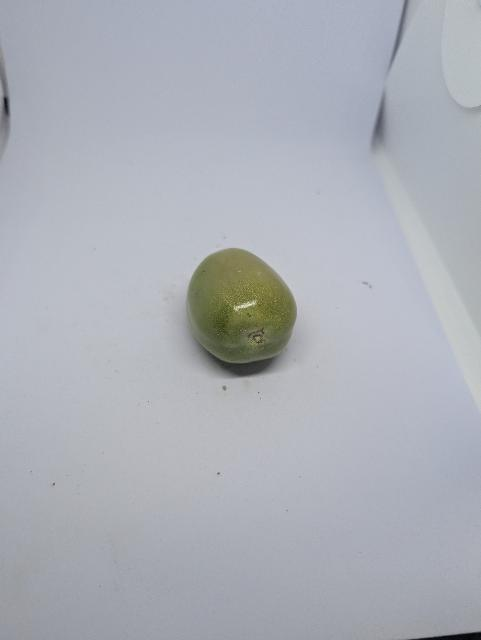green: (184, 245, 300, 367)
